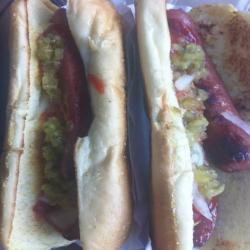hotdog: (7, 1, 136, 249), (130, 1, 249, 249)
